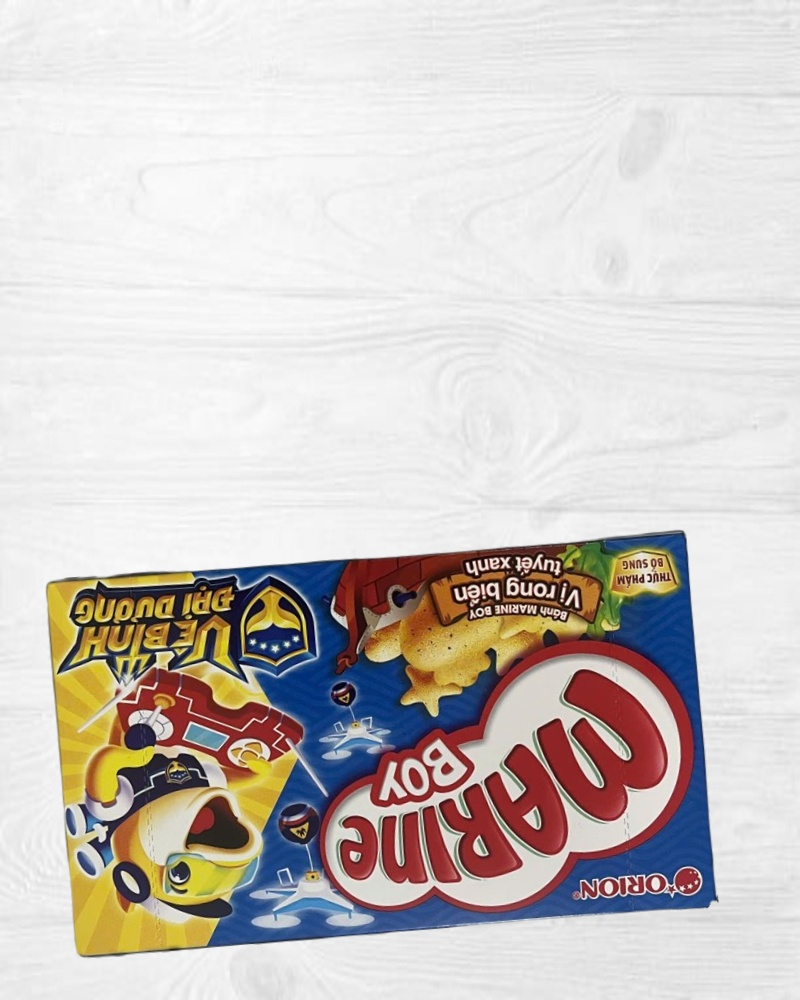Marine: (43, 526, 719, 963)
